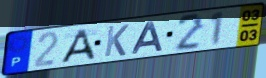1: (208, 10, 226, 48)
2: (175, 12, 208, 54), (32, 30, 62, 69)
A: (58, 27, 97, 65), (131, 20, 165, 56)
K: (103, 23, 131, 58)
